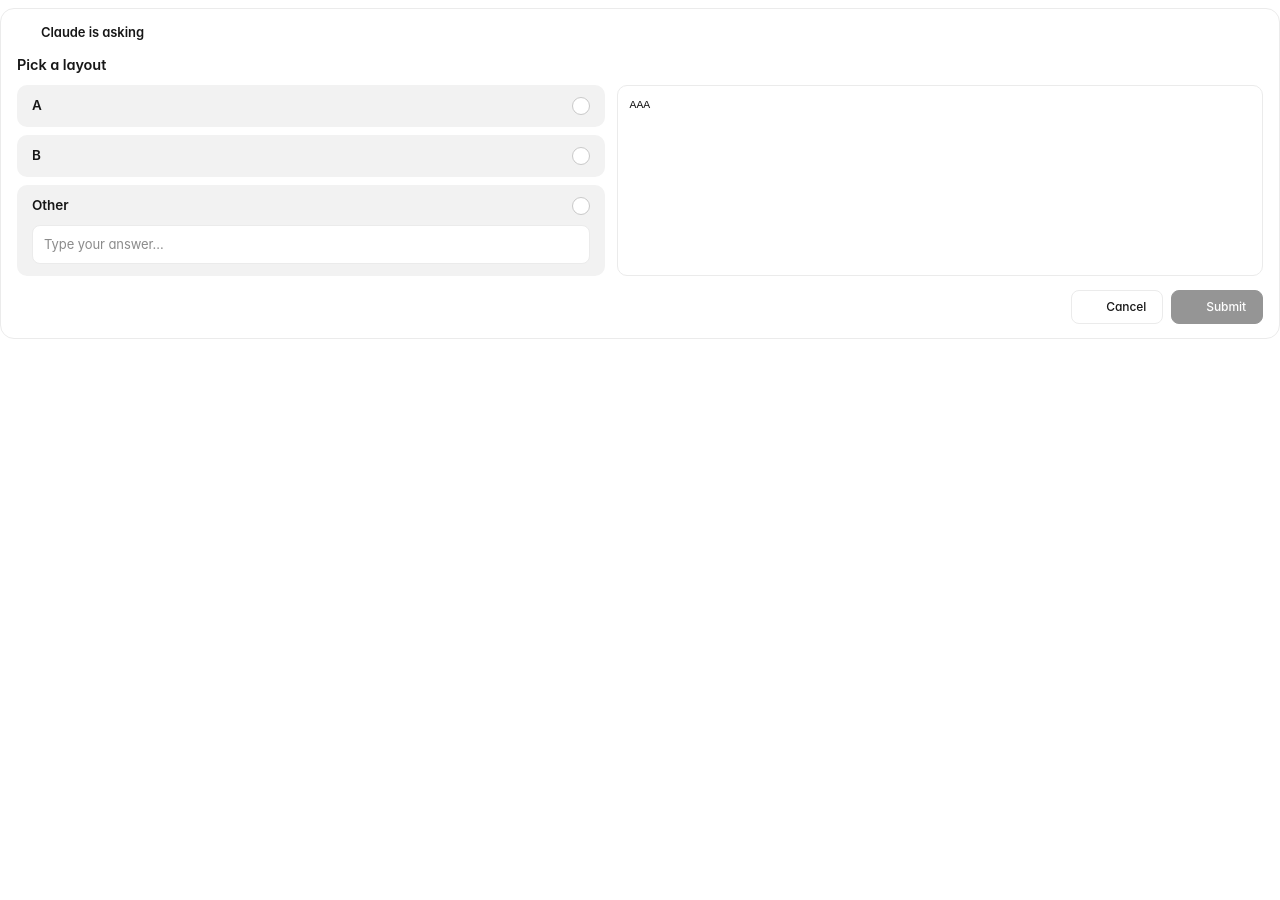
Test case: ChatQuestionPrompt › shows a preview pane for single-select-with-preview and follows hover
Expected: the element showing "AAA" is shown, [617,85,1263,276]
Expected: the text "AAA" is shown, [630,98,650,111]
Hover over the button "B": [36, 155] box [17,135,605,177]
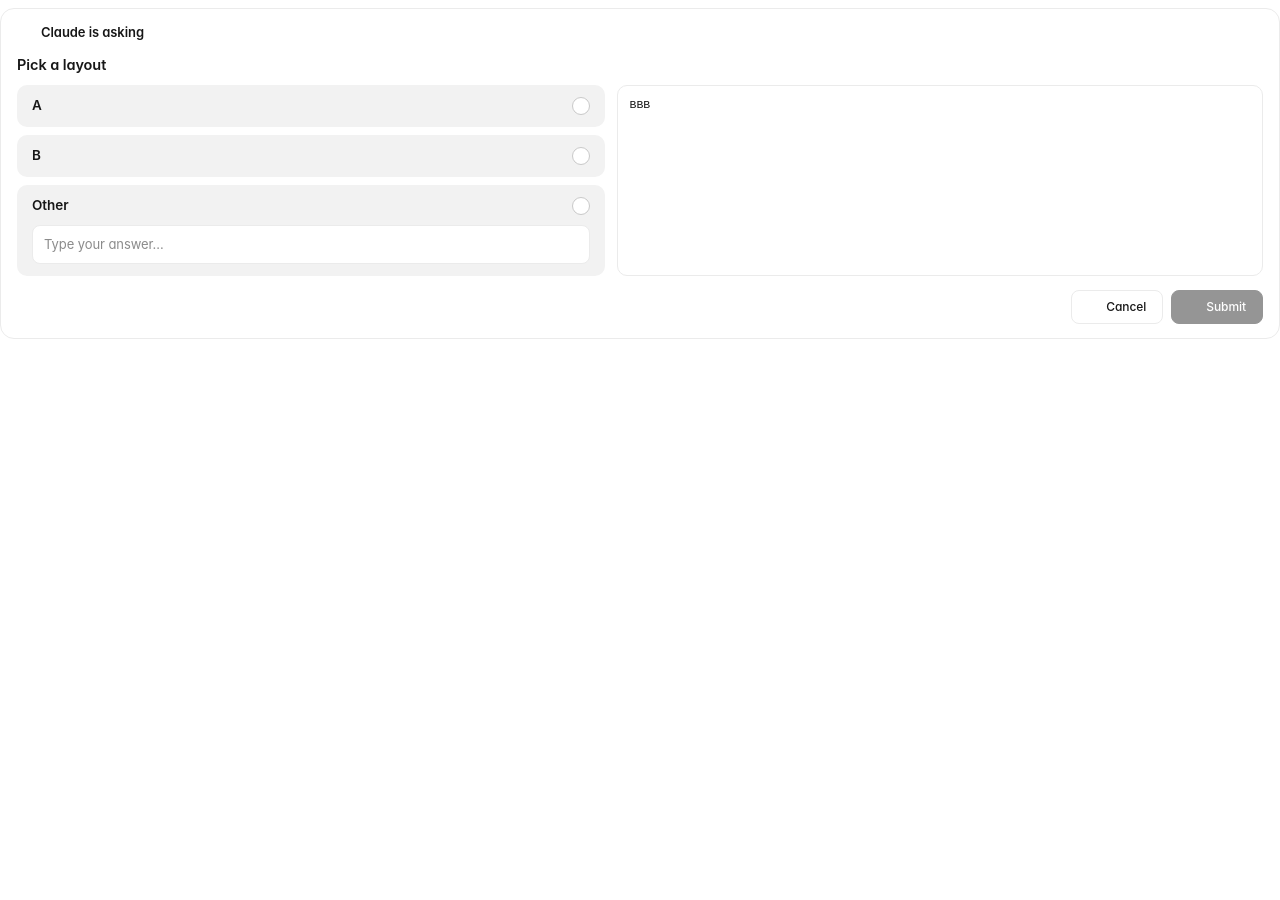
Expected: the text "BBB" is shown, [630,98,650,111]
